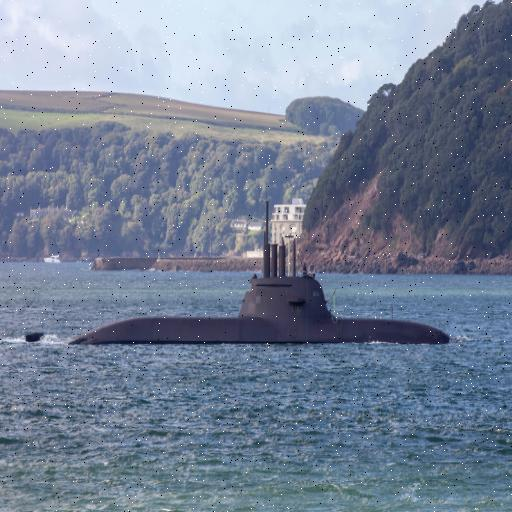submarine: (26, 198, 459, 342)
